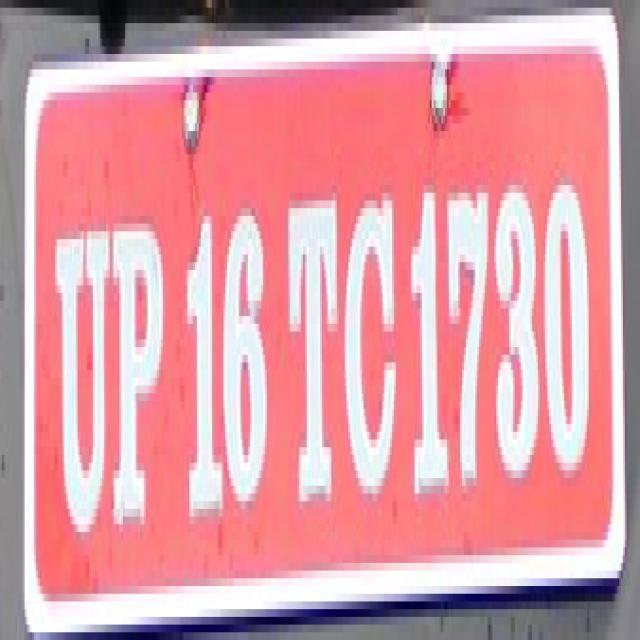0: (538, 175, 598, 490)
1: (404, 165, 452, 525), (178, 201, 225, 544)
3: (493, 170, 542, 513)
6: (222, 180, 270, 515)
7: (444, 165, 492, 503)
C: (344, 178, 409, 521)
P: (111, 216, 166, 552)
T: (280, 180, 340, 515)
U: (48, 209, 110, 550)
